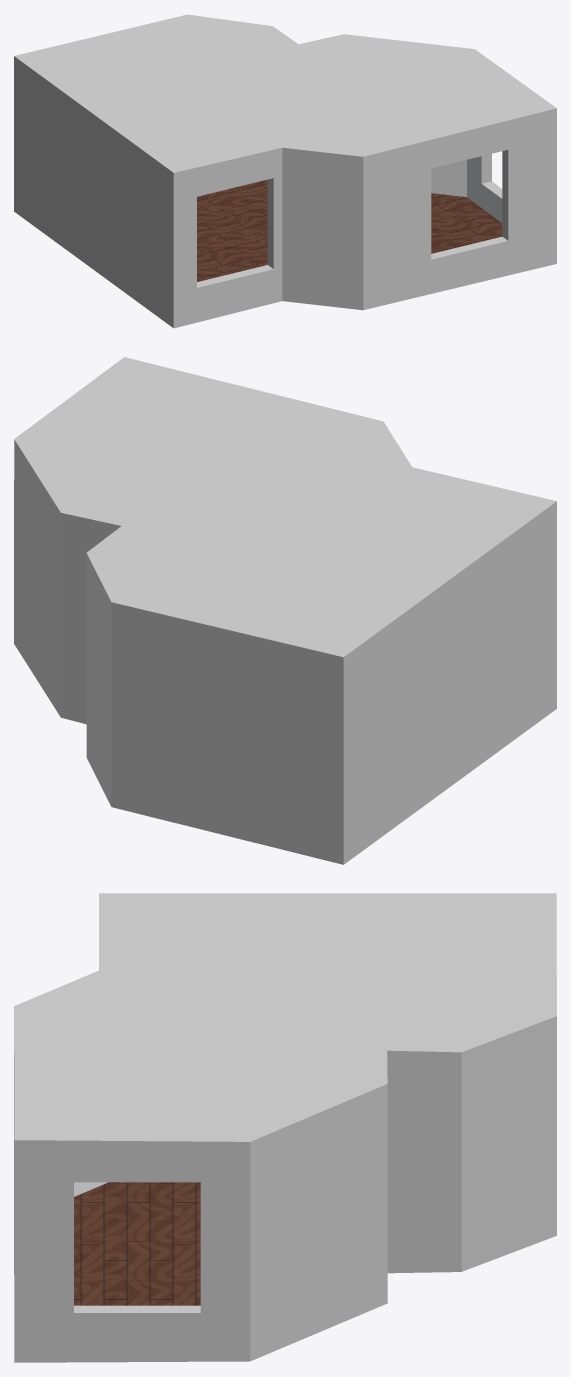
The model's file is house_room.glb.
3 renders of one model, top to bottom at view 1: azimuth 30°, elevation 25°; view 2: azimuth 150°, elevation 25°; view 3: azimuth 270°, elevation 25°, orthographic. The views are drawn at different scales.
Visible parts, largest first — view 1: light_catcher, ground; view 2: light_catcher; view 3: light_catcher, ground.
Boxes of the visible parts, x1=… form: light_catcher: x1=14, y1=14, x2=556, y2=328; ground: x1=197, y1=156, x2=502, y2=281; light_catcher: x1=14, y1=357, x2=556, y2=864; light_catcher: x1=14, y1=893, x2=556, y2=1362; ground: x1=74, y1=1182, x2=200, y2=1305.
Bounding box in the file's own units: 6.91 × 2.9 × 6.41.
3 materials, 2 textured.
